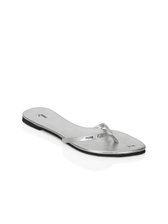shoes: (19, 101, 152, 162)
